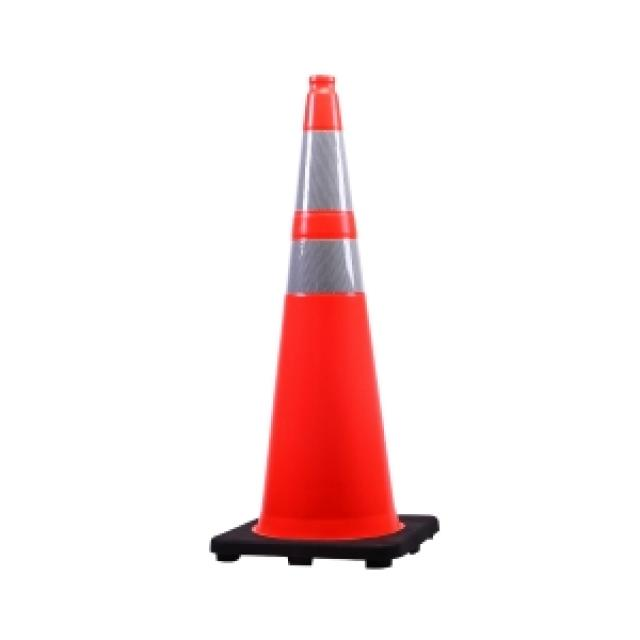Traffic Cone: (207, 73, 445, 572)
